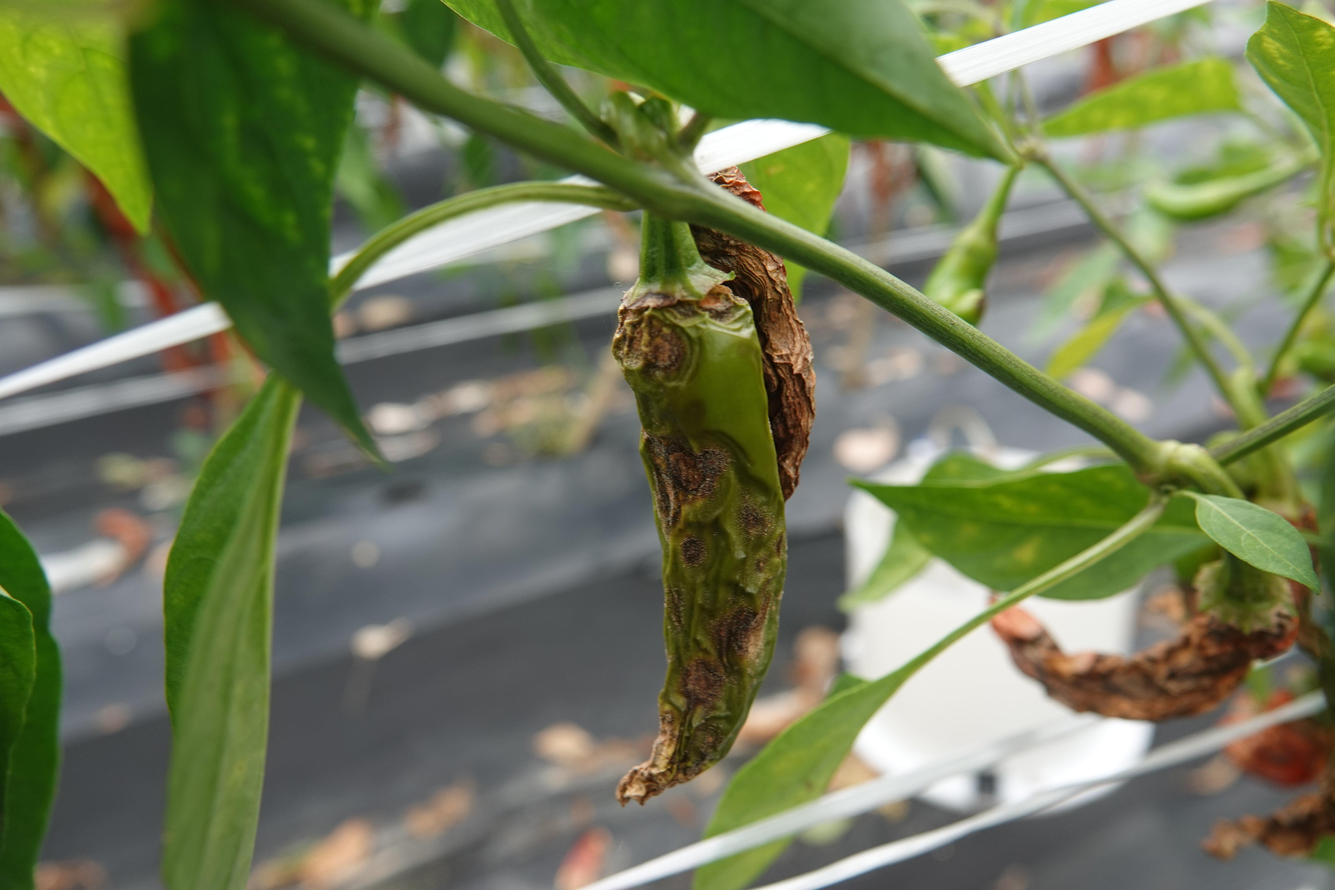Busuk Buah Antraknosa: (610, 269, 797, 818), (978, 562, 1298, 727)
